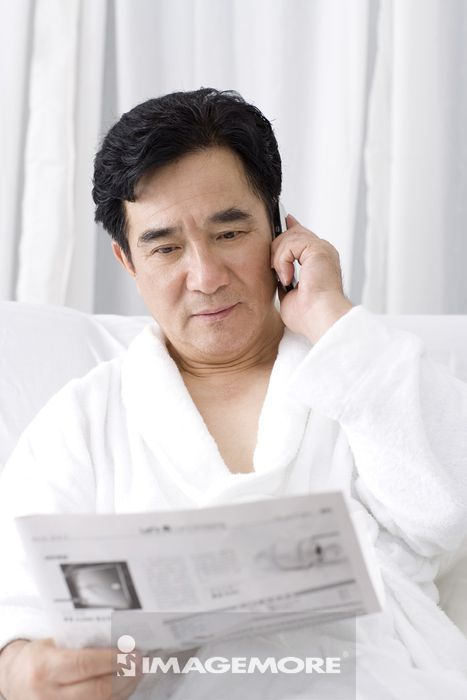phone: (265, 187, 300, 302)
talk: (135, 198, 344, 363)
